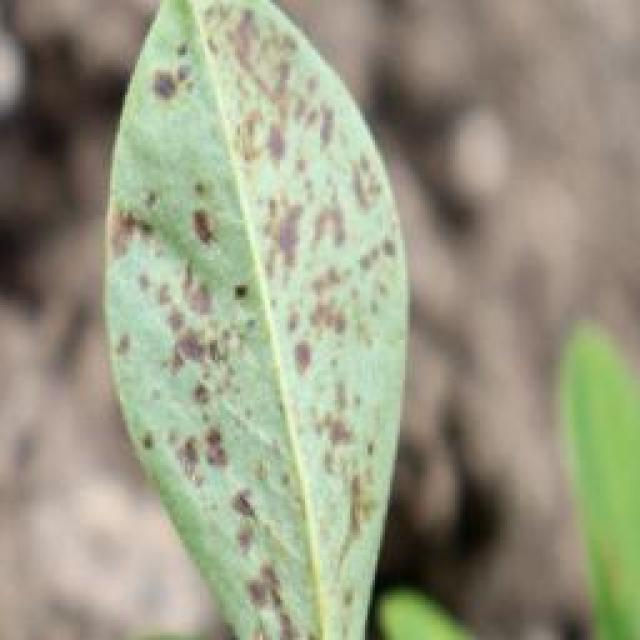Whitefly: (87, 0, 449, 640)
